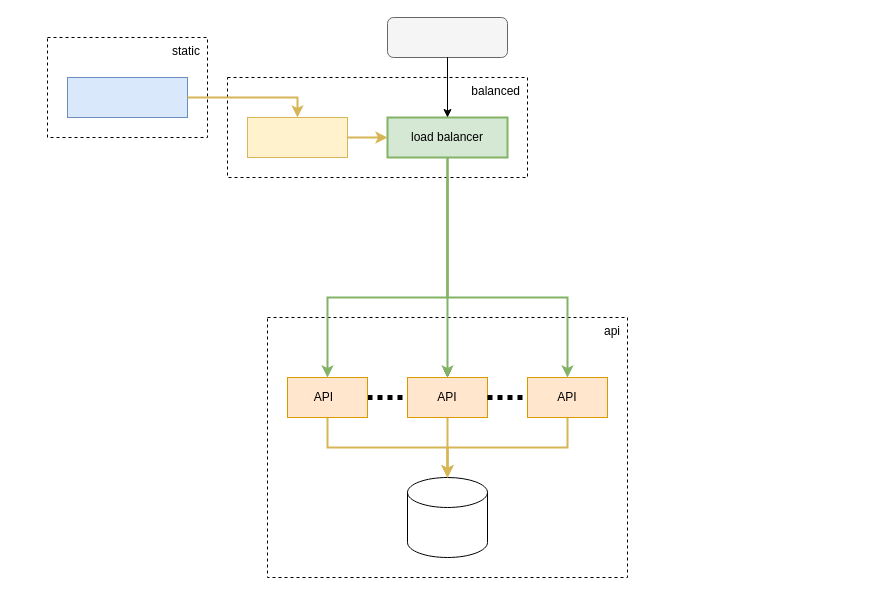
Some shapes in this 884 by 615 pixel diagram are drawn without their labels. Here are the shapes that lost their labels. From the top down, the centre of each, then its label:
At point (447, 37): "test / curl".
At point (127, 97): "Static IP Config".
At point (297, 137): "Message Bus".
At point (447, 517): "DB".
